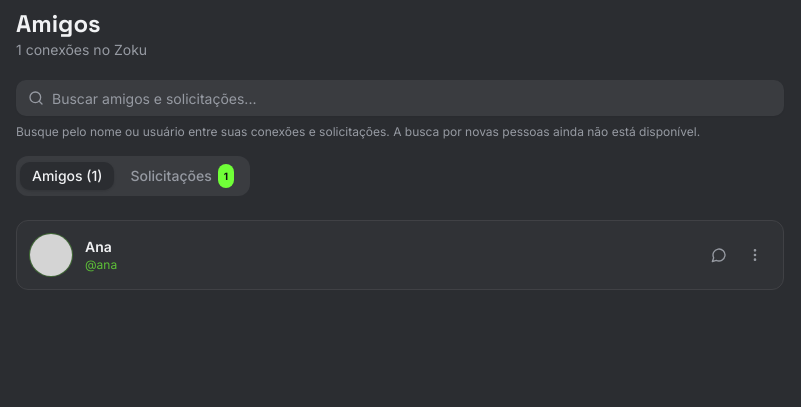
Test: removes accepted friends through the menu and renders the empty state
Click the button named "Opções de Ana".
click(755, 255)  # box x1=739 y1=239 x2=771 y2=271
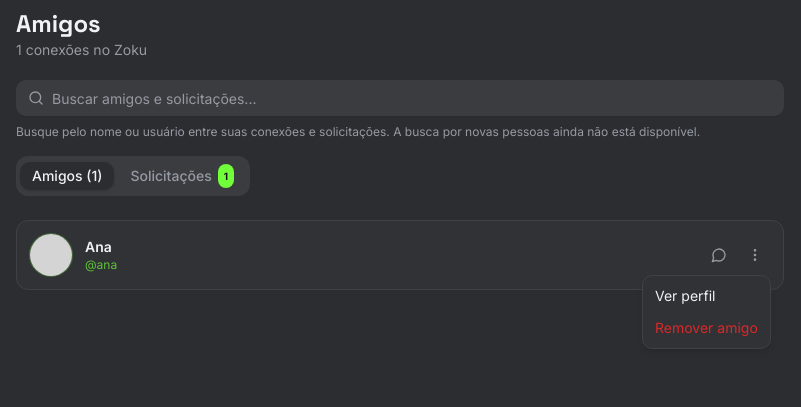
Click the menu item "Remover amigo".
click(706, 328)  # box x1=655 y1=319 x2=758 y2=336
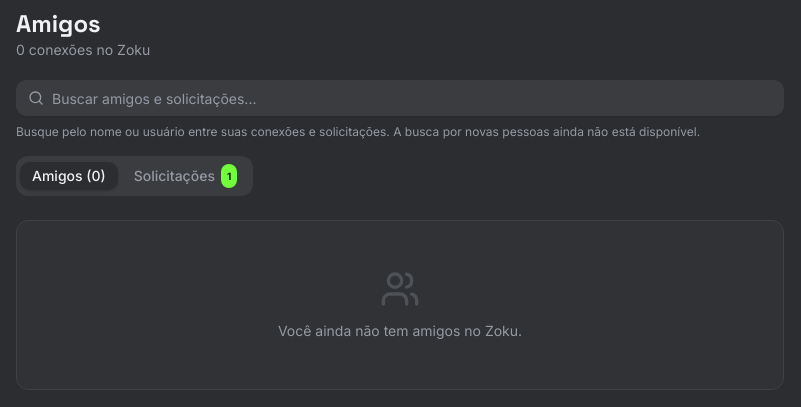
Now the text "Você ainda não tem amigos no Zoku." is shown, box x1=16 y1=220 x2=784 y2=390
Now the text "0 conexões no Zoku" is shown, box x1=16 y1=41 x2=150 y2=58
